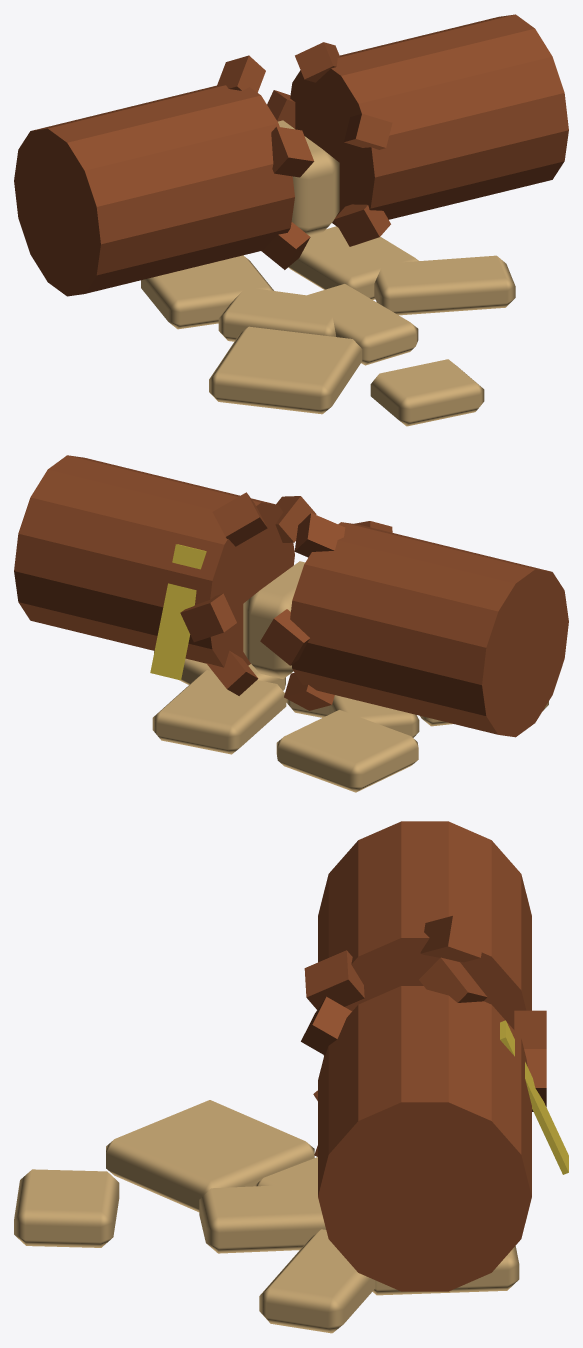
The model's file is PipeCrack.glb.
3 views of the same model, one above another, from view 1: azimuth 30°, elevation 25°; view 2: azimuth 150°, elevation 25°; view 3: azimuth 270°, elevation 25° (orthographic). The views are drawn at different scales.
Parts seen in each view (by area): view 1: PipeCrack.001; view 2: PipeCrack.001; view 3: PipeCrack.001.
Boxes of the visible parts, x1,y1,x2,y2 form: PipeCrack.001: (14, 14, 568, 426); PipeCrack.001: (14, 455, 568, 792); PipeCrack.001: (14, 821, 568, 1333).
Size of the model in its own units: 0.82 by 0.4063 by 0.6846.
